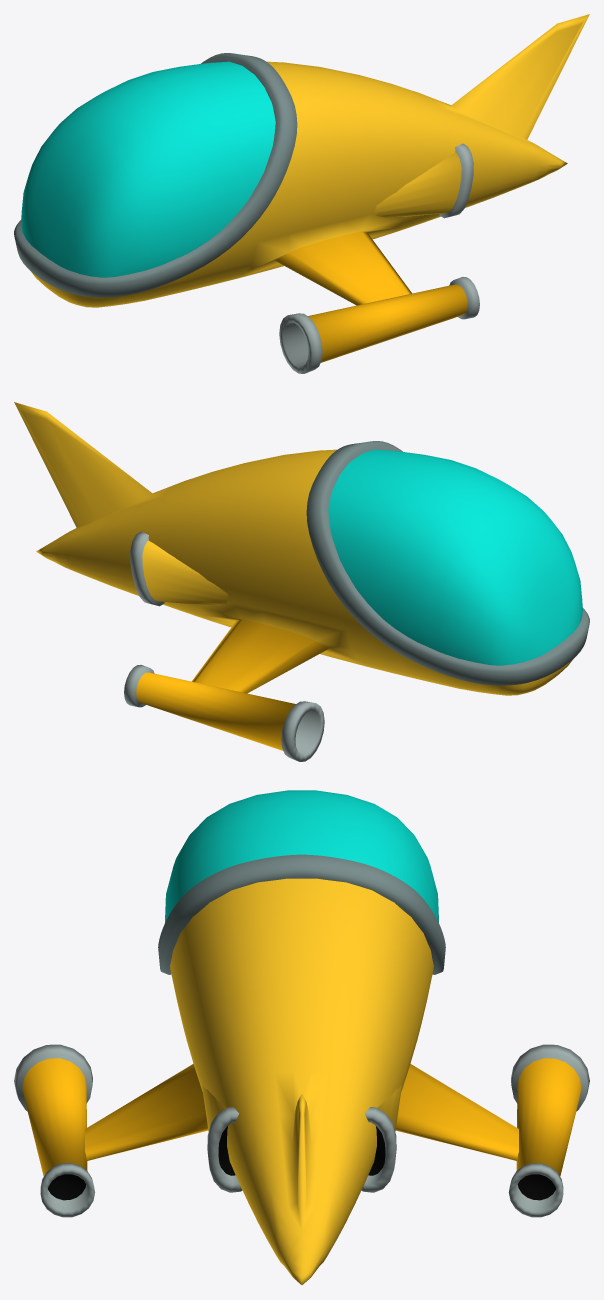
The model's file is Mini-Sub01.fbx.
The picture shows the model from 3 angles, top to bottom: view 1: azimuth 30°, elevation 25°; view 2: azimuth 150°, elevation 25°; view 3: azimuth 270°, elevation 25°; orthographic projection. The views are drawn at different scales.
Parts seen in each view (by area): view 1: MiniSub01; view 2: MiniSub01; view 3: MiniSub01.
Part boxes in pixels (<box>): MiniSub01: <box>14,14,589,373</box>; MiniSub01: <box>14,402,589,761</box>; MiniSub01: <box>14,790,589,1284</box>.
Bounding box in the file's own units: 3.01 × 1.18 × 2.09.
